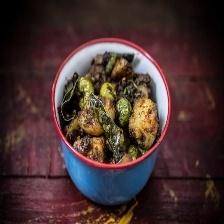sabzi: (52, 46, 163, 167)
